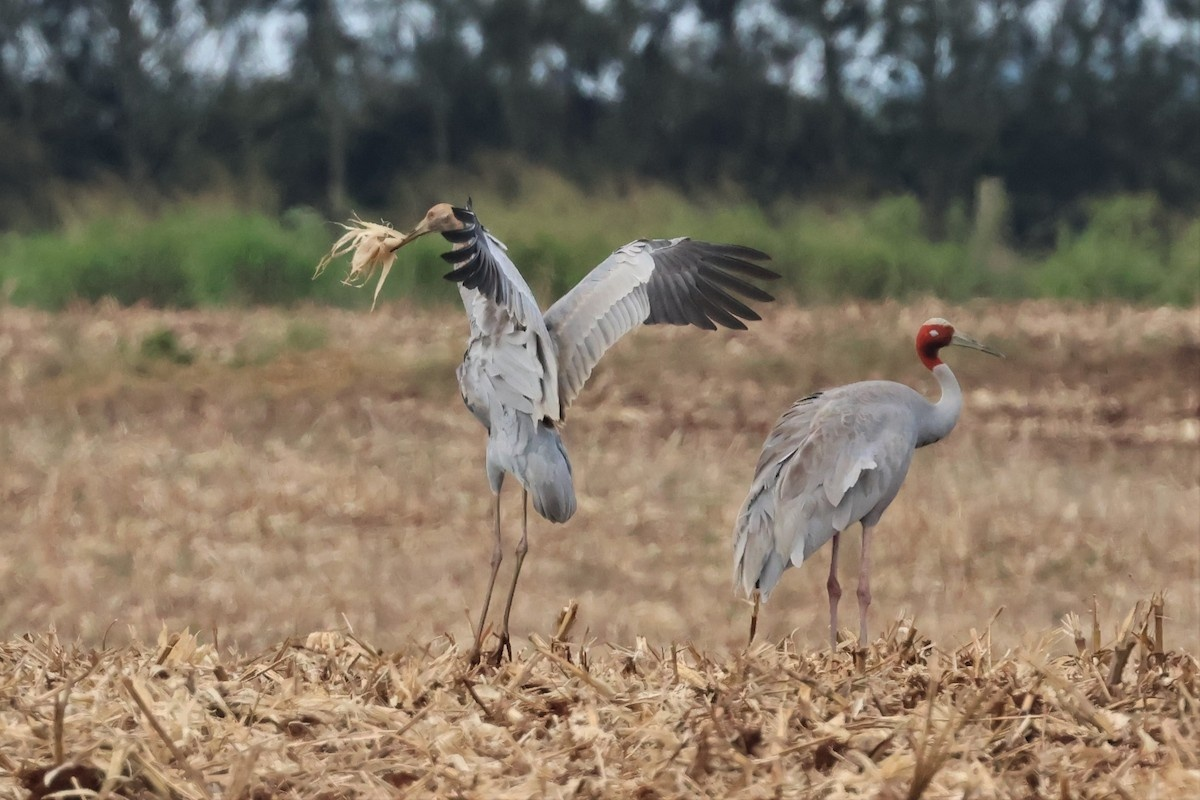crane: (361, 185, 779, 700), (737, 302, 1018, 663)
